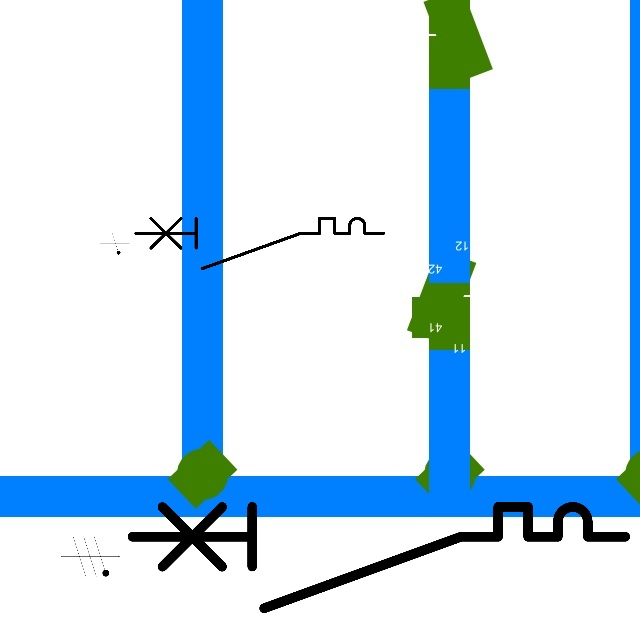interruptor_termomagnetico: (119, 494, 637, 621), (129, 212, 389, 275)
